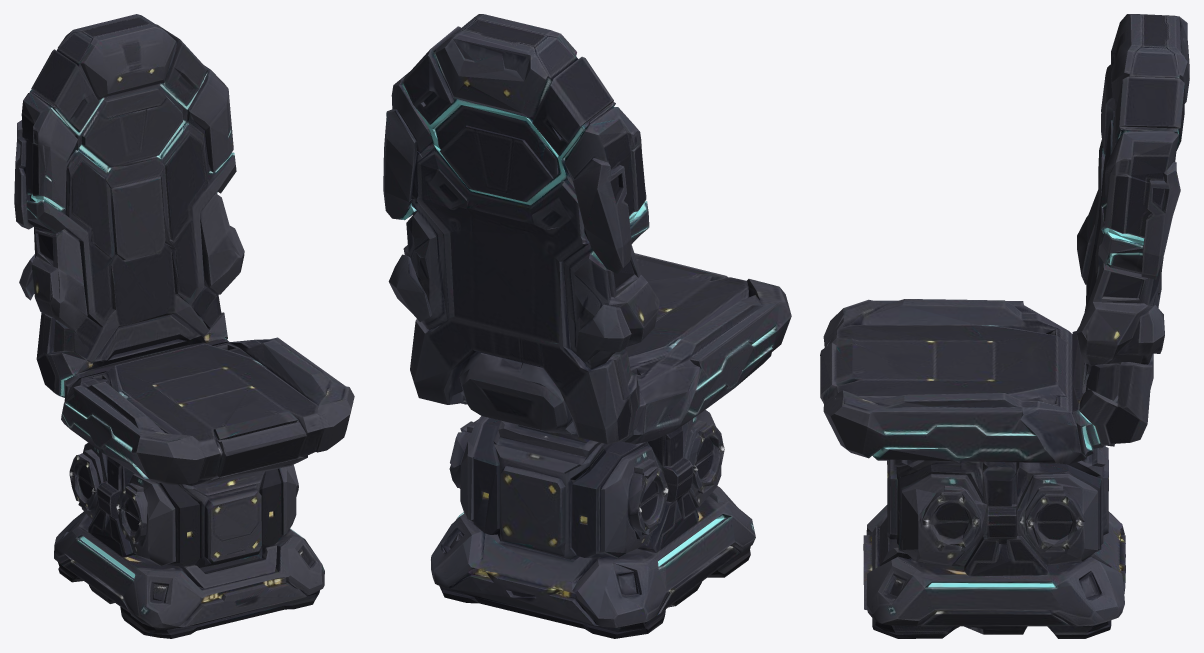
The model's file is pilot_seat.glb.
The picture shows the model from 3 angles, left to right: view 1: azimuth 30°, elevation 25°; view 2: azimuth 150°, elevation 25°; view 3: azimuth 270°, elevation 25°; orthographic projection. The views are drawn at different scales.
Visible parts, largest first — view 1: output_unwrapped; view 2: output_unwrapped; view 3: output_unwrapped.
Part boxes in pixels (left/top/right/bottom): output_unwrapped: left=14, top=14, right=354, bottom=638; output_unwrapped: left=383, top=14, right=791, bottom=638; output_unwrapped: left=820, top=14, right=1189, bottom=638.
Bounding box in the file's own units: 0.8652 × 1.9 × 1.13.
1 material, 1 textured.
